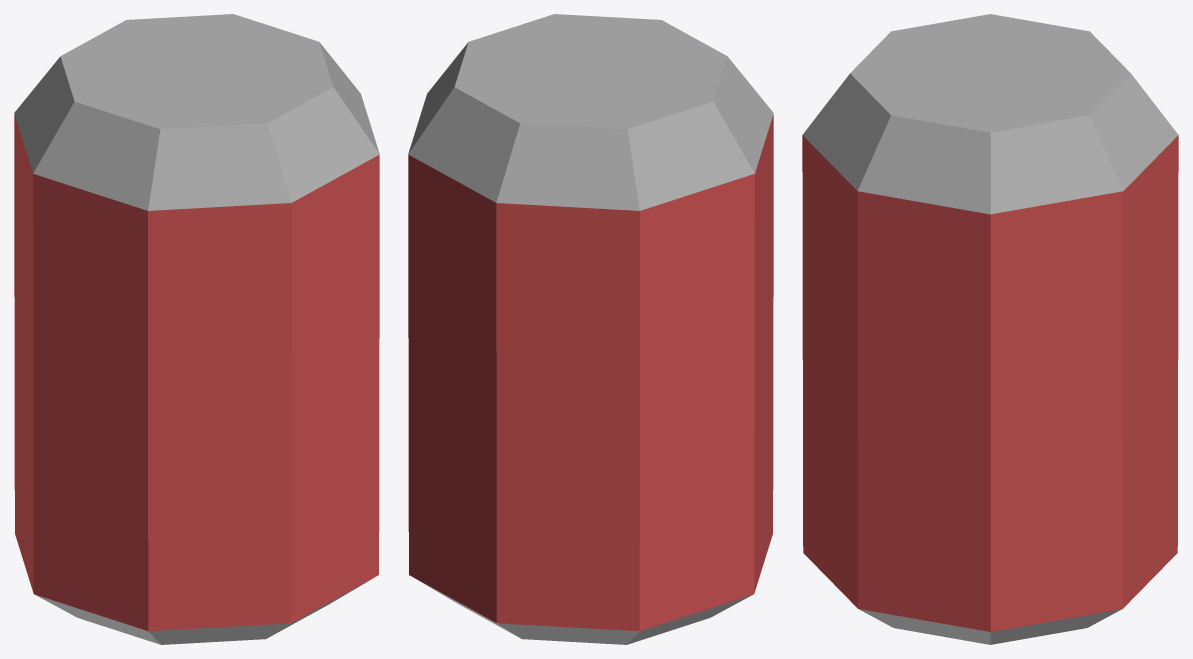
Rendered from Kaleng.fbx.
3 renders of one model, left to right at view 1: azimuth 30°, elevation 25°; view 2: azimuth 150°, elevation 25°; view 3: azimuth 270°, elevation 25°, orthographic.
Visible parts, largest first — view 1: Kaleng; view 2: Kaleng; view 3: Kaleng.
Boxes of the visible parts, x1=… form: Kaleng: x1=14, y1=14, x2=379, y2=644; Kaleng: x1=408, y1=14, x2=773, y2=644; Kaleng: x1=802, y1=14, x2=1178, y2=644.
Size of the model in its own units: 90.07 by 136 by 90.07.
